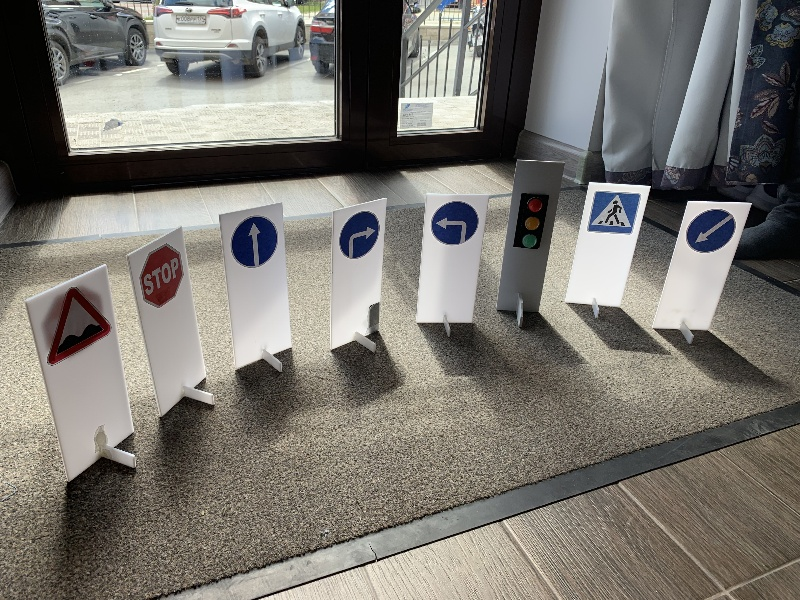Left: (428, 199, 480, 246)
Nerov: (48, 289, 110, 359)
Right: (340, 211, 381, 261)
Stop: (141, 244, 184, 310)
forw: (231, 215, 277, 270)
pesh: (590, 188, 639, 238)
prep: (685, 208, 738, 254)
